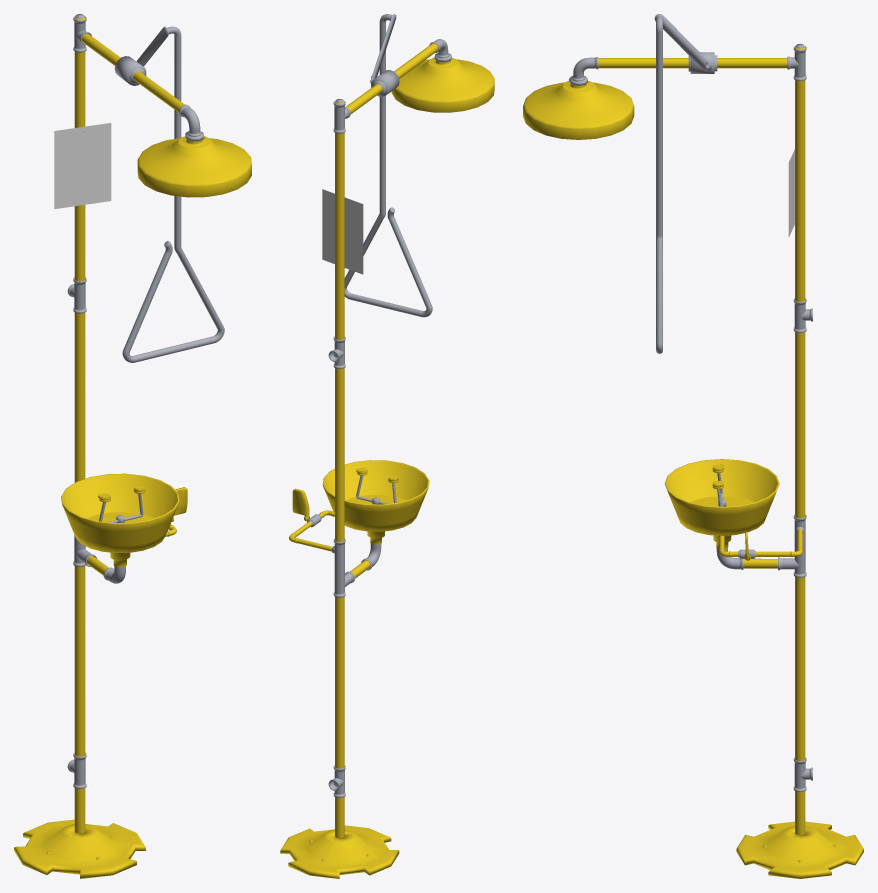
File: Safety_Shower.fbx
3 renders of one model, left to right at view 1: azimuth 30°, elevation 25°; view 2: azimuth 150°, elevation 25°; view 3: azimuth 270°, elevation 25°, orthographic. The views are drawn at different scales.
Visible parts, largest first — view 1: Plastic.004, Pipes, Image_bolt, Metal_bits_01, Pipe Attachments, Metal_bits_02; view 2: Plastic.004, Pipes, Metal_bits_01, Pipe Attachments, Image_bolt, Metal_bits_02; view 3: Plastic.004, Pipes, Pipe Attachments, Metal_bits_01, Metal_bits_02.
Boxes of the visible parts, x1,y1,x2,y2 form: Plastic.004: (14, 136, 251, 878); Pipes: (74, 16, 184, 833); Image_bolt: (54, 123, 111, 209); Metal_bits_01: (99, 26, 224, 522); Pipe Attachments: (67, 16, 200, 788); Metal_bits_02: (75, 14, 204, 523); Plastic.004: (280, 57, 494, 878); Pipes: (289, 43, 438, 837); Metal_bits_01: (344, 14, 432, 504); Pipe Attachments: (328, 39, 448, 797); Image_bolt: (322, 189, 363, 274); Metal_bits_02: (307, 14, 451, 553); Plastic.004: (523, 80, 863, 878); Pipes: (598, 46, 805, 835); Pipe Attachments: (572, 46, 812, 792); Metal_bits_01: (656, 15, 726, 506); Metal_bits_02: (569, 14, 804, 558).
Bounding box in the file's own units: 45.27 × 277 × 101.
